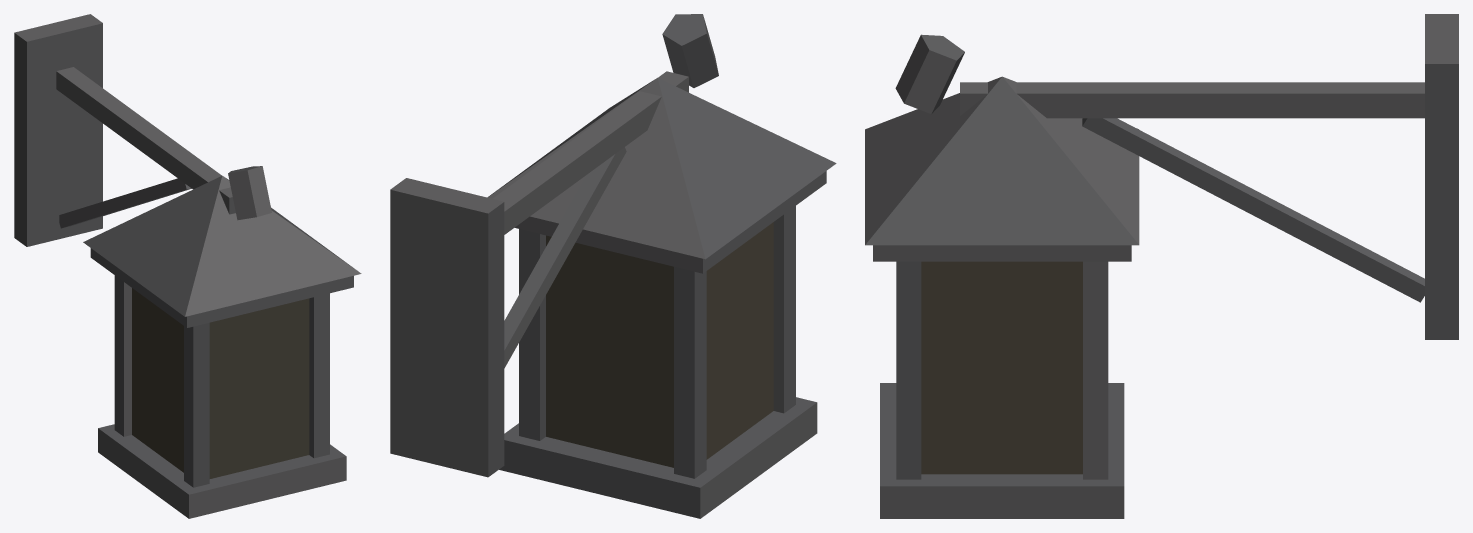
Rendered from walk_prop_lantern.glb.
3 views of the same model, side by side, from view 1: azimuth 30°, elevation 25°; view 2: azimuth 150°, elevation 25°; view 3: azimuth 270°, elevation 25° (orthographic). The views are drawn at different scales.
Visible parts, largest first — view 1: walk_prop_lantern; view 2: walk_prop_lantern; view 3: walk_prop_lantern.
Boxes of the visible parts, x1,y1,x2,y2 form: walk_prop_lantern: (14, 14, 361, 518); walk_prop_lantern: (390, 14, 836, 518); walk_prop_lantern: (865, 14, 1458, 518).
Bounding box in the file's own units: 0.3243 × 0.5602 × 0.7022.
2 materials, 2 textured.
